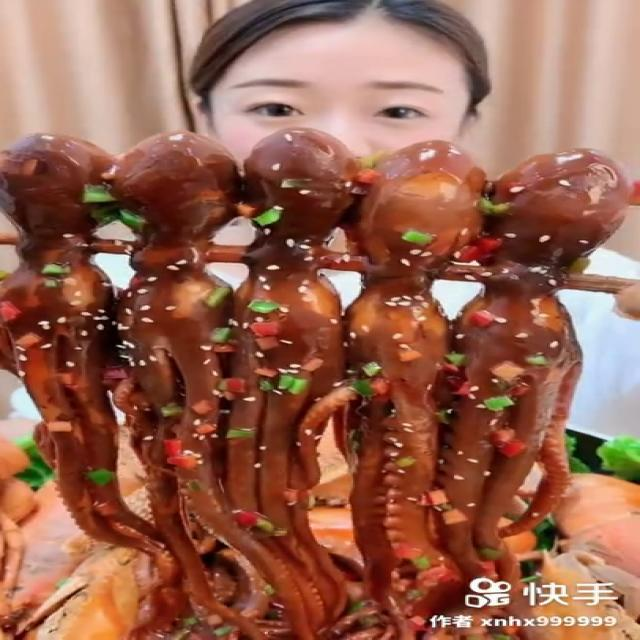octopus: (127, 122, 295, 630), (0, 135, 160, 640), (342, 136, 483, 640), (492, 144, 618, 640), (244, 124, 350, 636)
